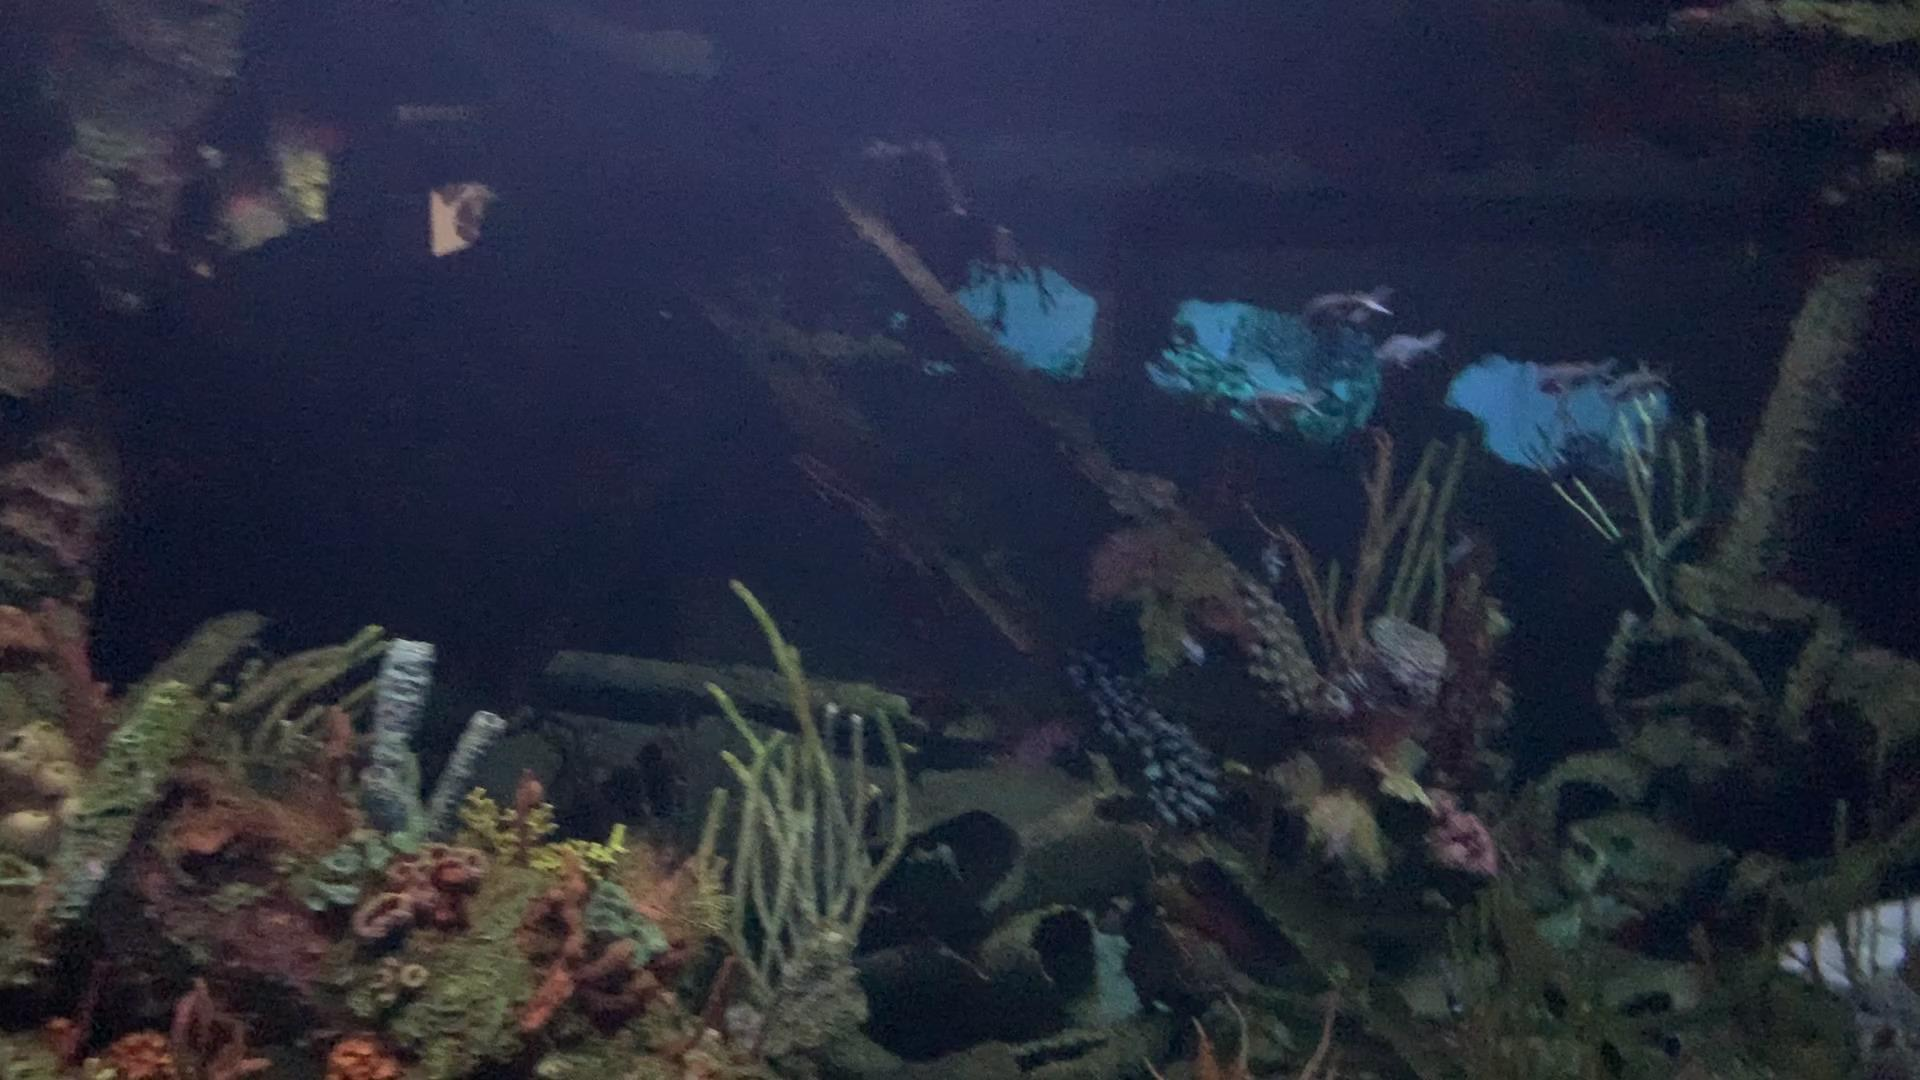fish: (1296, 278, 1403, 334), (1236, 388, 1335, 436), (1371, 326, 1452, 376), (1531, 356, 1629, 397), (1597, 359, 1679, 407)
